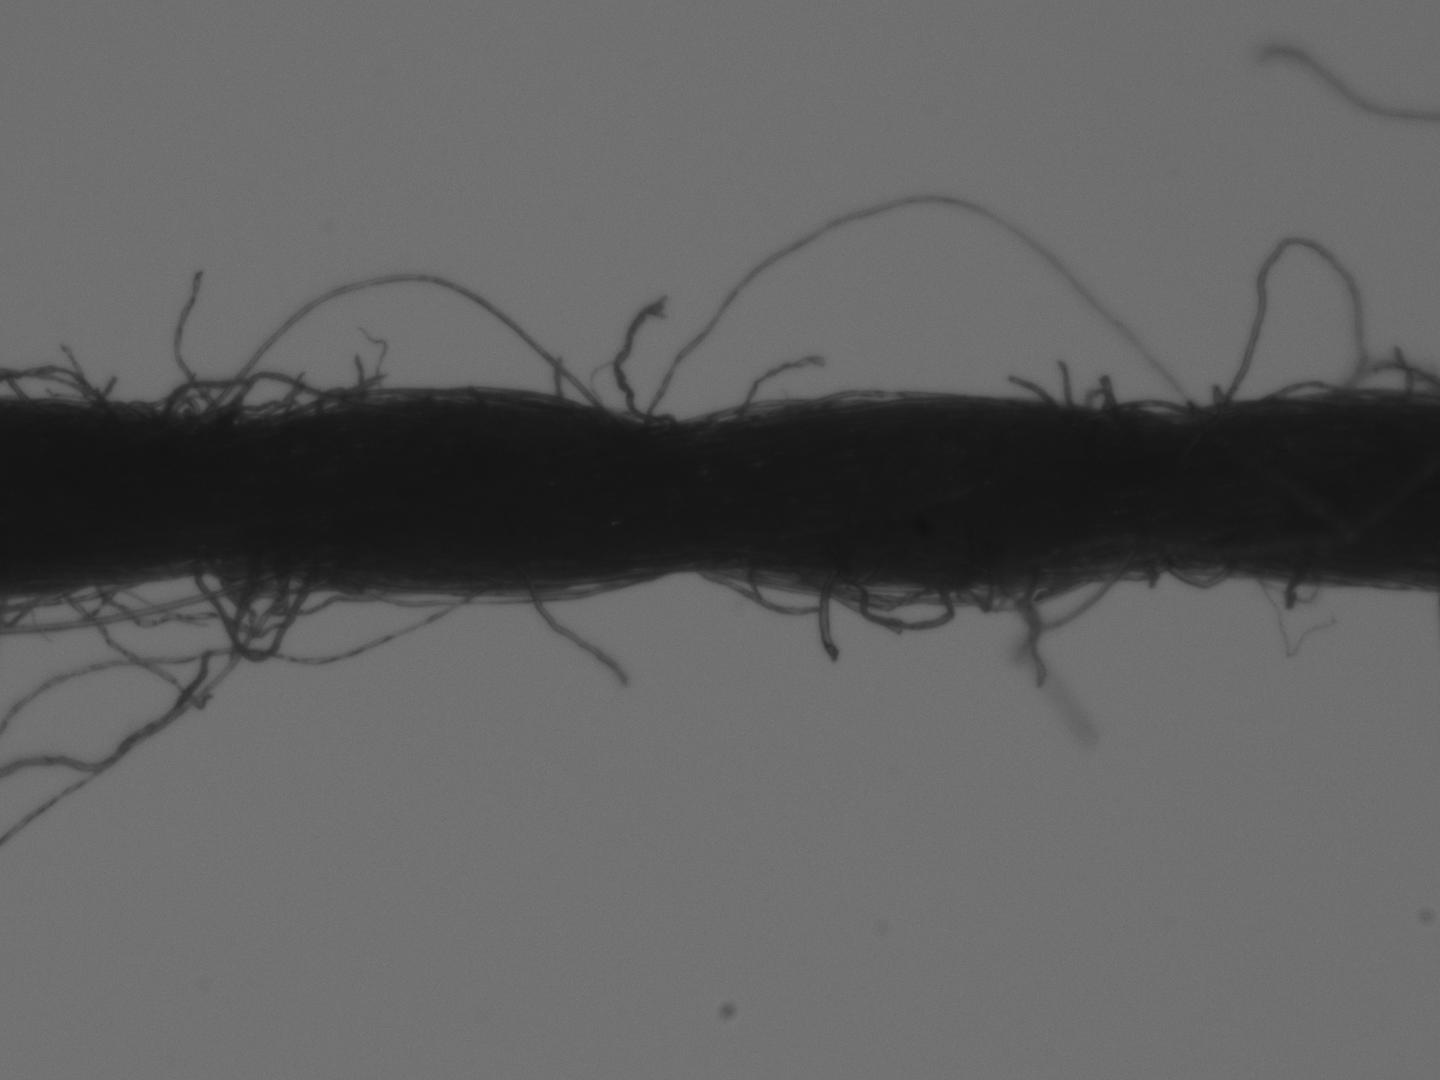loop_fiber: (637, 180, 1206, 436), (196, 268, 594, 419), (1205, 227, 1374, 429), (687, 552, 964, 666), (92, 563, 382, 638), (188, 533, 333, 668), (151, 365, 400, 431)
protruding_fiber: (502, 552, 639, 697), (738, 351, 829, 430), (171, 268, 210, 414)
